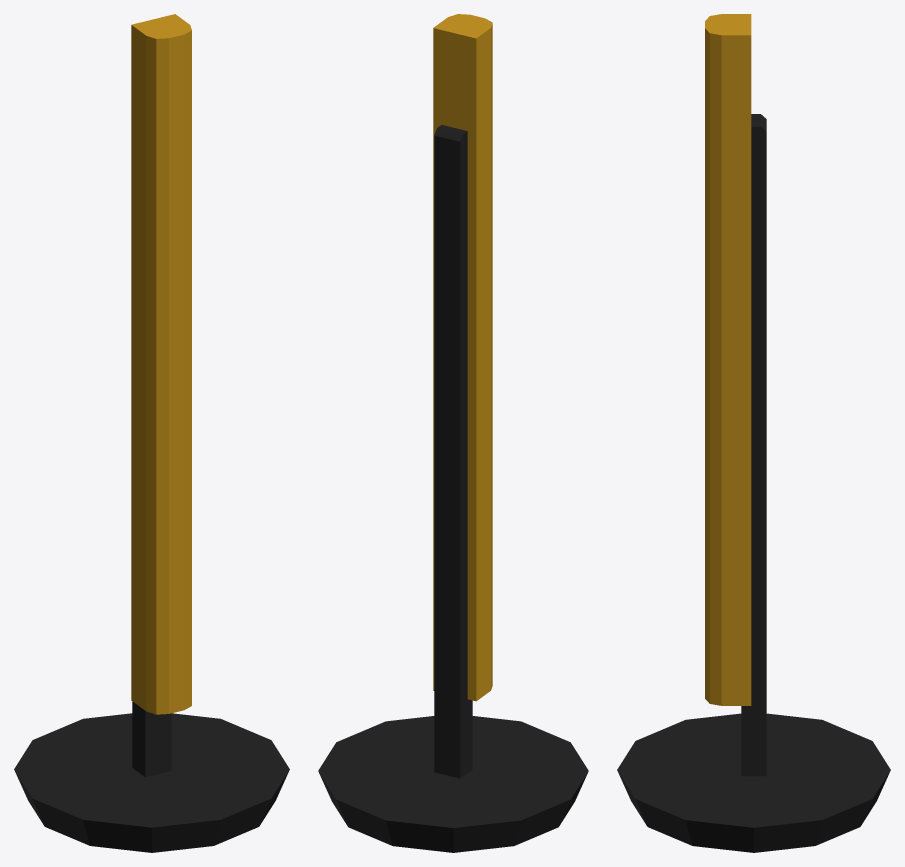
The model's file is Desk_Lamp.obj.
The picture shows the model from 3 angles, left to right: view 1: azimuth 30°, elevation 25°; view 2: azimuth 150°, elevation 25°; view 3: azimuth 270°, elevation 25°; orthographic projection.
Parts seen in each view (by area): view 1: Desk_Lamp; view 2: Desk_Lamp; view 3: Desk_Lamp.
Boxes of the visible parts, x1,y1,x2,y2 form: Desk_Lamp: (14, 14, 289, 852); Desk_Lamp: (318, 14, 588, 852); Desk_Lamp: (617, 14, 890, 852).
Bounding box in the file's own units: 0.1532 × 0.4791 × 0.1532.
